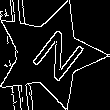N_SW: (17, 22, 83, 87)
